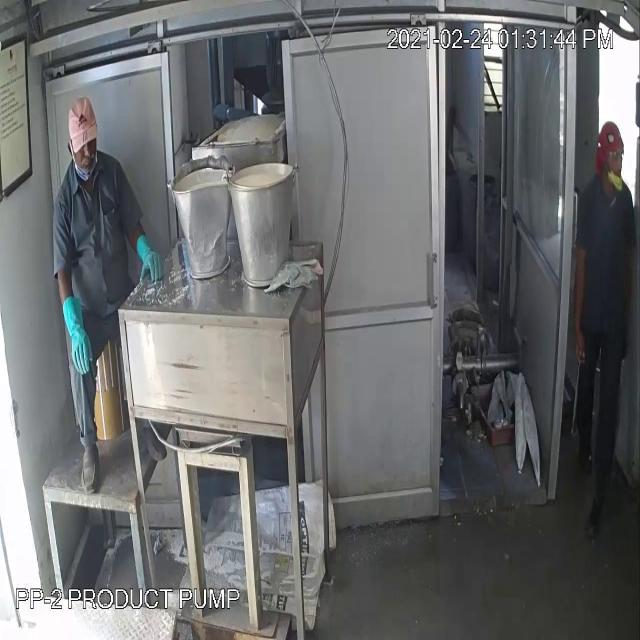no-helmet: (63, 86, 107, 158)
